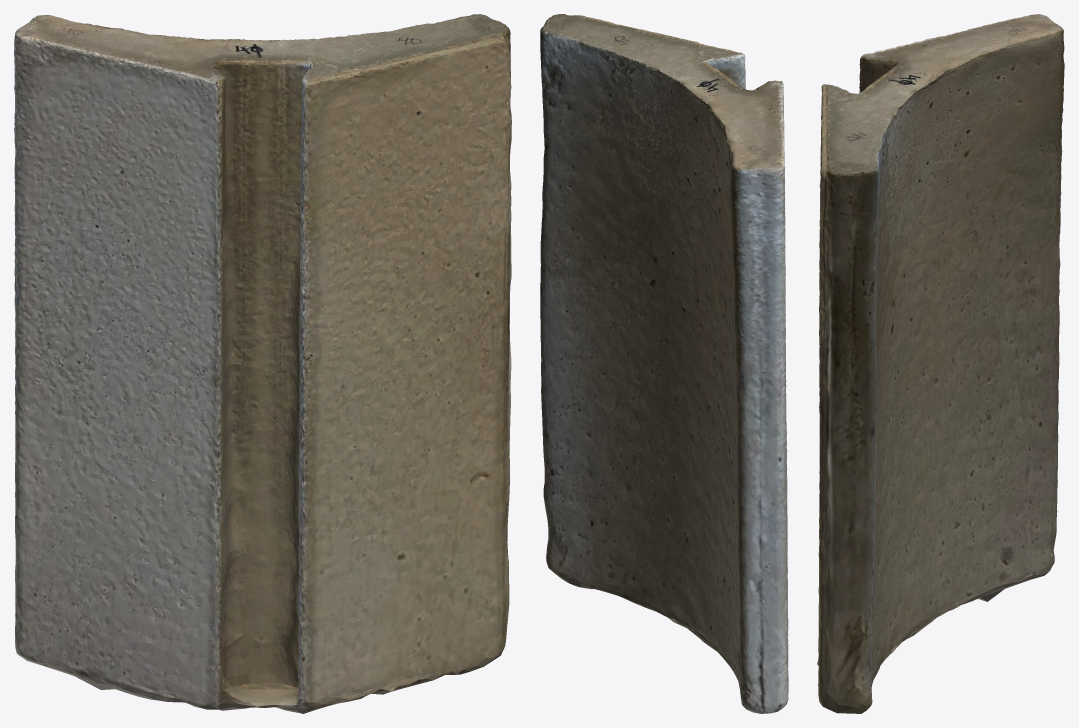
File: Pixel 40.glb
3 renders of one model, left to right at view 1: azimuth 30°, elevation 25°; view 2: azimuth 150°, elevation 25°; view 3: azimuth 270°, elevation 25°, orthographic. The views are drawn at different scales.
Size of the model in its own units: 0.1645 by 0.268 by 0.1061.
1 material, 1 textured.
